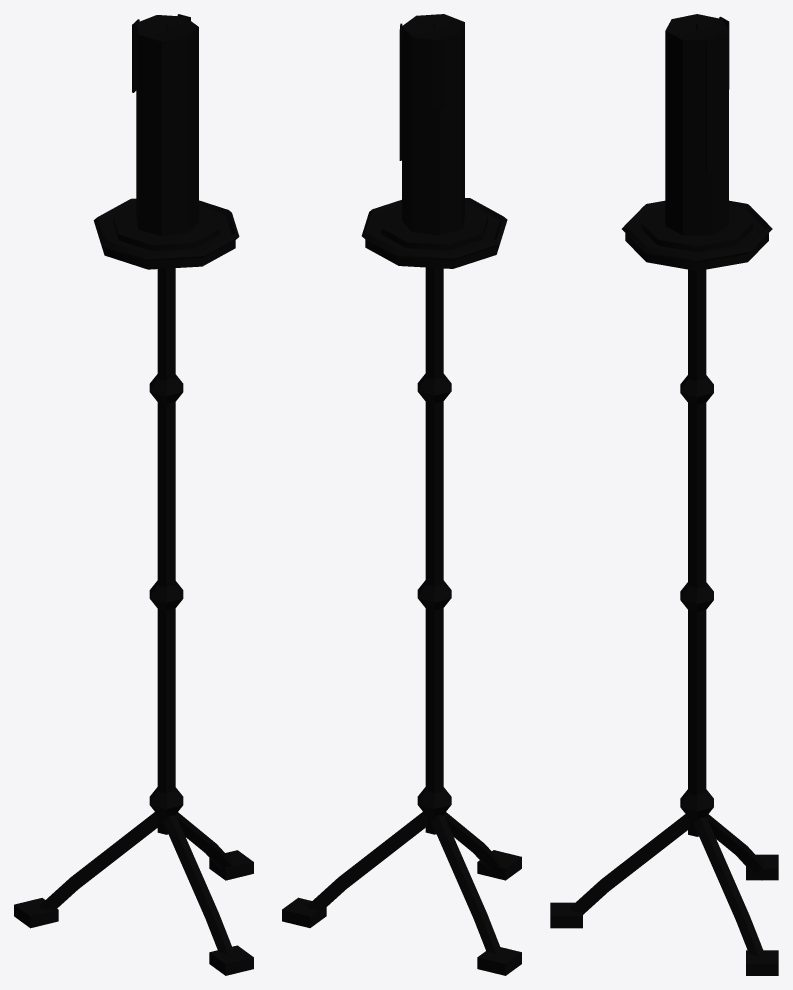
Rendered from SM_candle_pillar.fbx.
The picture shows the model from 3 angles, left to right: view 1: azimuth 30°, elevation 25°; view 2: azimuth 150°, elevation 25°; view 3: azimuth 270°, elevation 25°; orthographic projection.
Visible parts, largest first — view 1: candle_pillar; view 2: candle_pillar; view 3: candle_pillar.
Boxes of the visible parts, x1,y1,x2,y2 form: candle_pillar: (14,14,253,975); candle_pillar: (282,14,521,975); candle_pillar: (550,14,778,975).
Size of the model in its own units: 0.3964 by 1.53 by 0.35.
